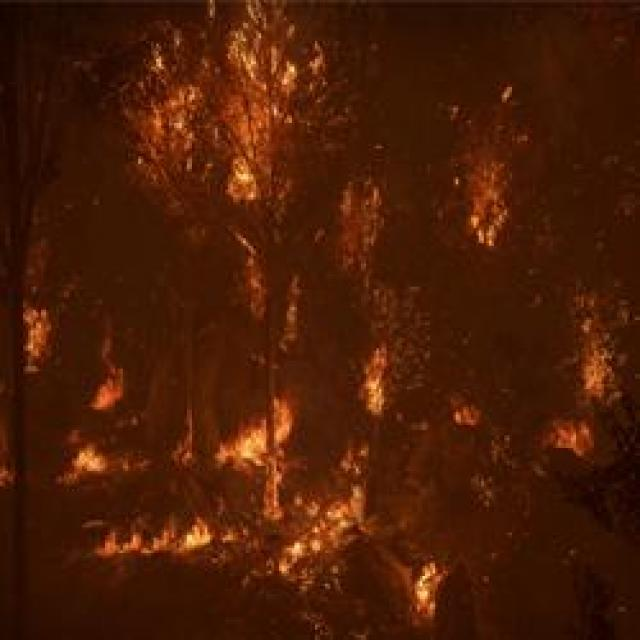fire: (37, 414, 443, 618), (125, 16, 322, 260), (566, 326, 638, 426), (466, 145, 509, 263)
